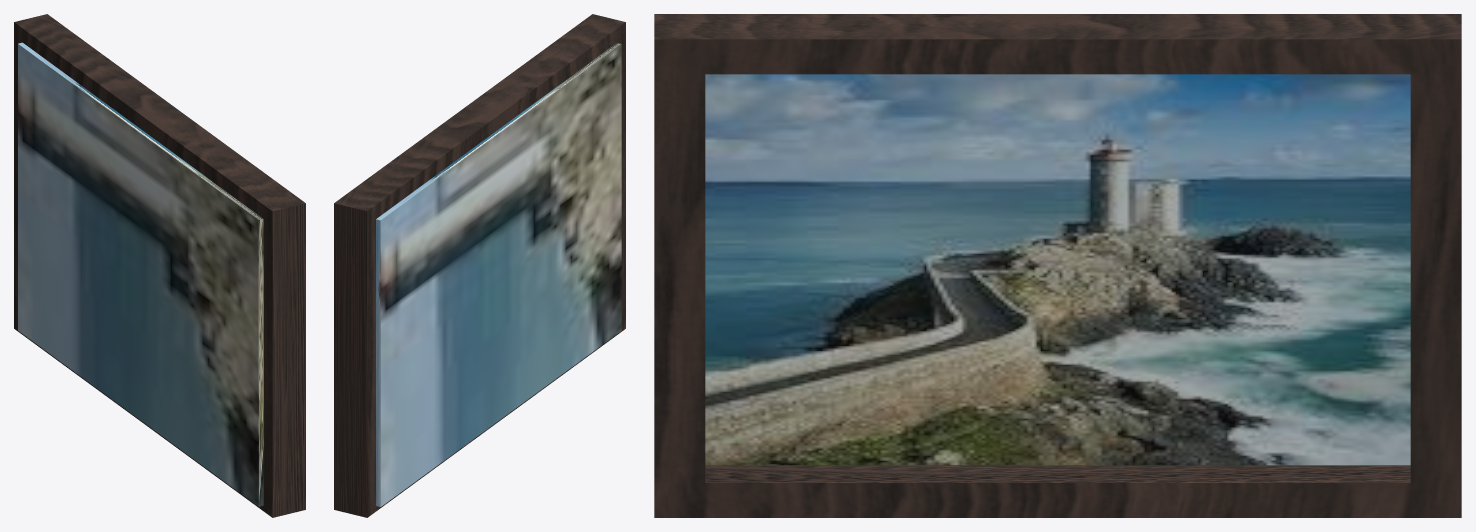
The picture shows the model from 3 angles, left to right: view 1: azimuth 30°, elevation 25°; view 2: azimuth 150°, elevation 25°; view 3: azimuth 270°, elevation 25°; orthographic projection. The views are drawn at different scales.
Parts seen in each view (by area): view 1: 액자5; view 2: 액자5; view 3: 액자5.
Boxes of the visible parts, box(x1,y1,x2,y2) form: 액자5: box(14, 14, 305, 517); 액자5: box(334, 14, 625, 517); 액자5: box(654, 14, 1461, 517).
Bounding box in the file's own units: 20.92 × 161 × 246.
Materials: 2 (2 with a texture image).
